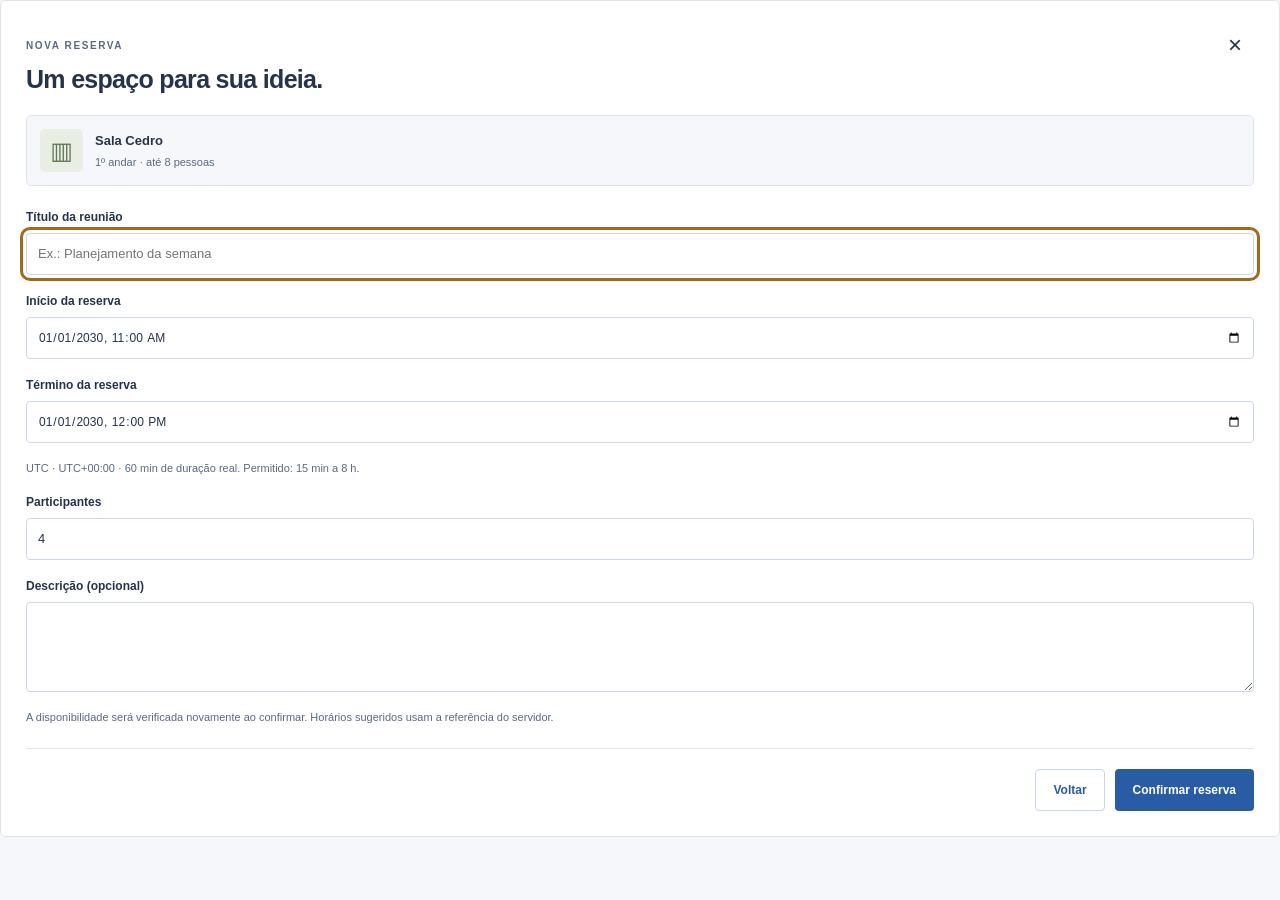
Test case: reservation form states › shows confirmation and prevents another mutation after success
The width and height of the screenshot is (1280, 900).
Type "Planejamento" into the field labelled "Título da reunião" at point(640, 254), box left=26, top=233, right=1254, bottom=275
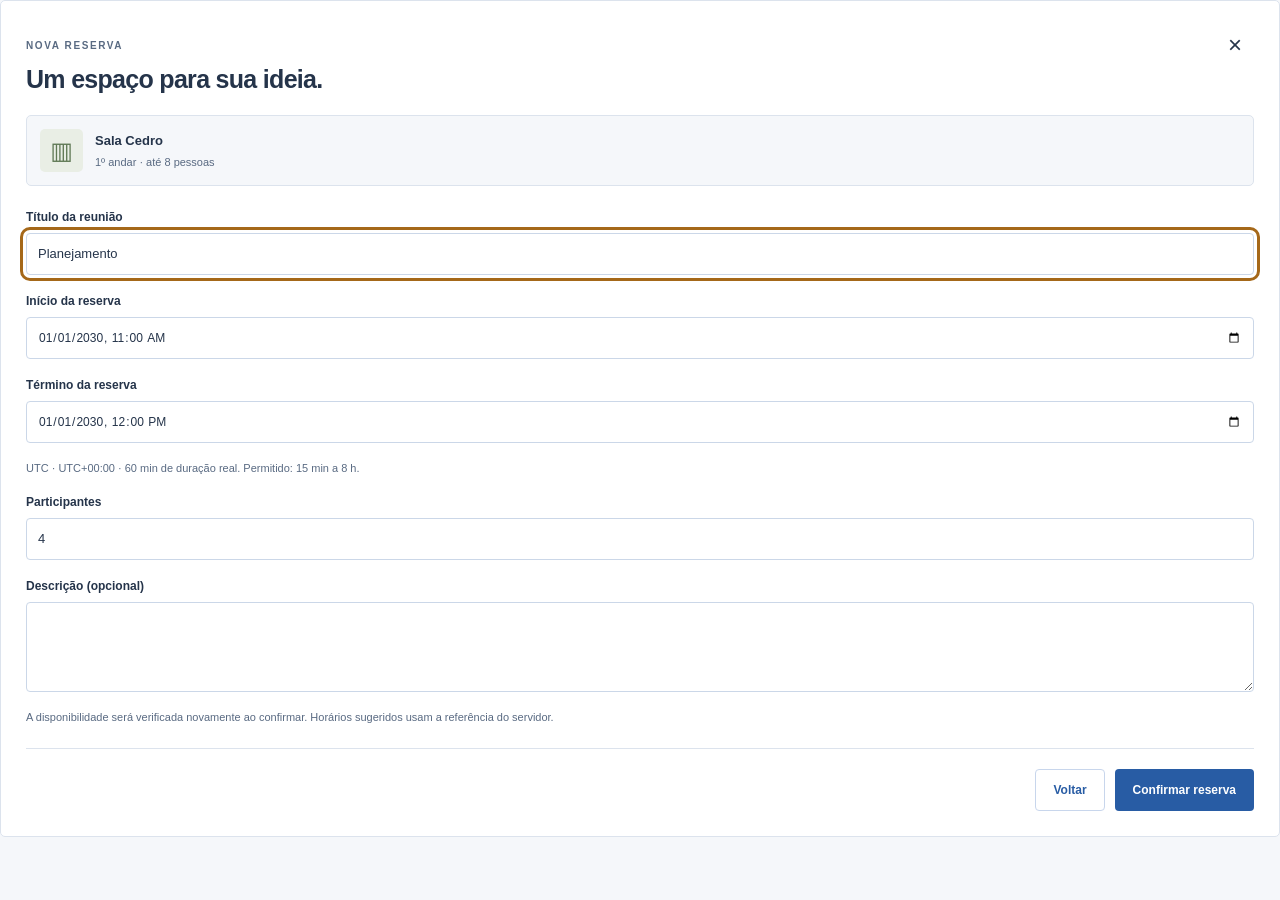
Type "Pauta importante" into the text box labelled "Descrição (opcional)" at point(640, 647), box left=26, top=602, right=1254, bottom=692
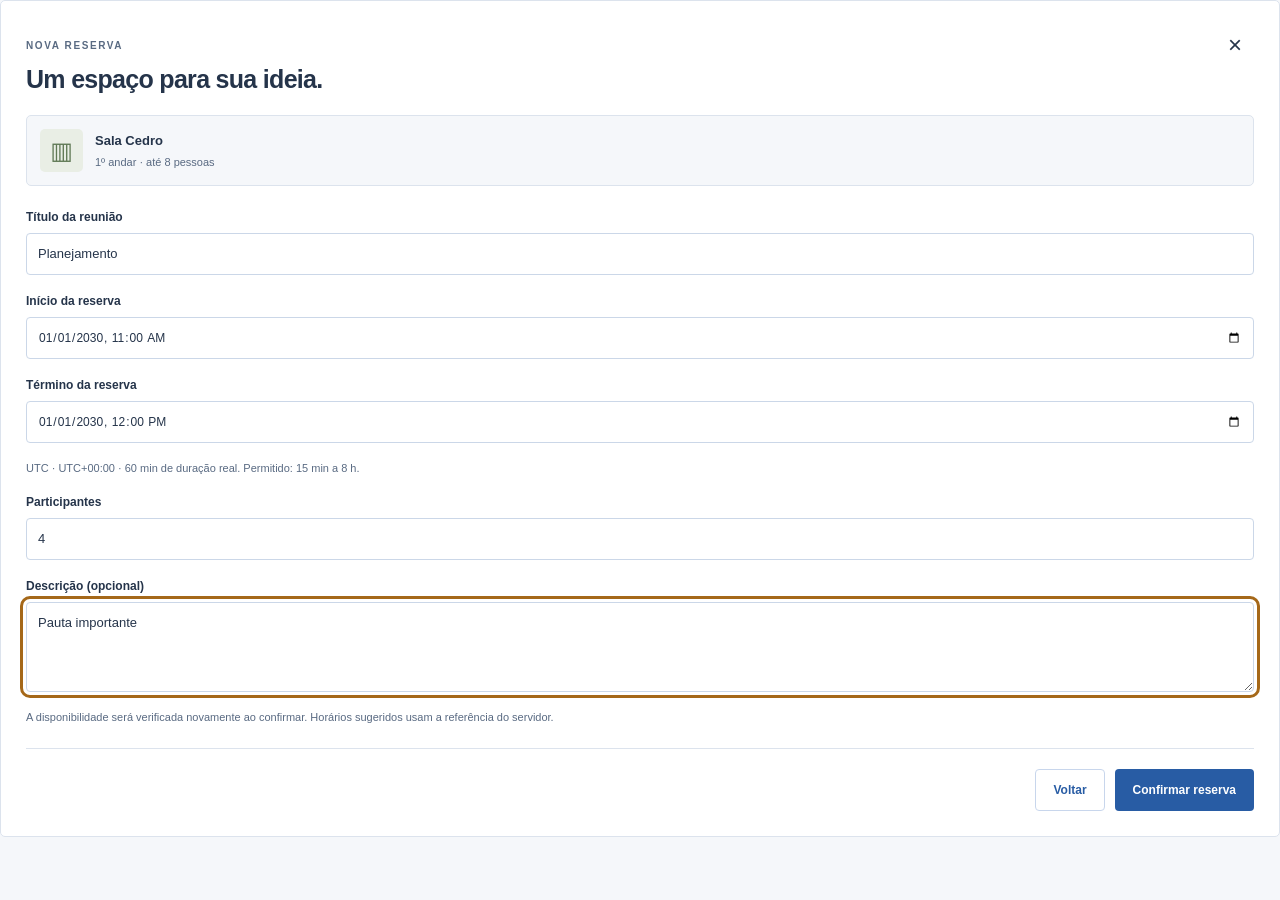
Click the button "Confirmar reserva" at point(1184, 790), box left=1115, top=769, right=1254, bottom=811
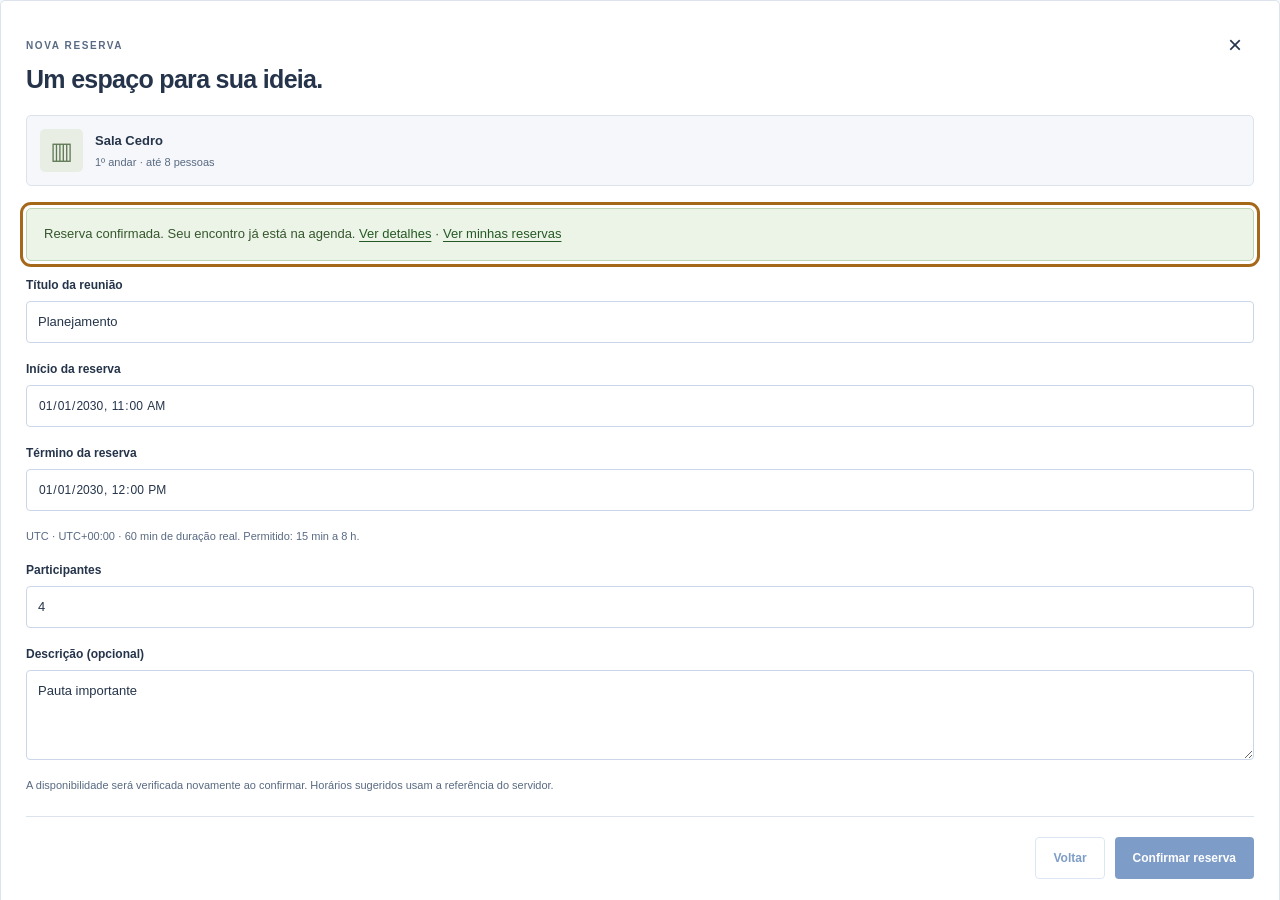
Expected: the button "Confirmar reserva" is disabled, left=1115, top=837, right=1254, bottom=879
Expected: the message shows "Reserva confirmada", left=44, top=226, right=356, bottom=241
